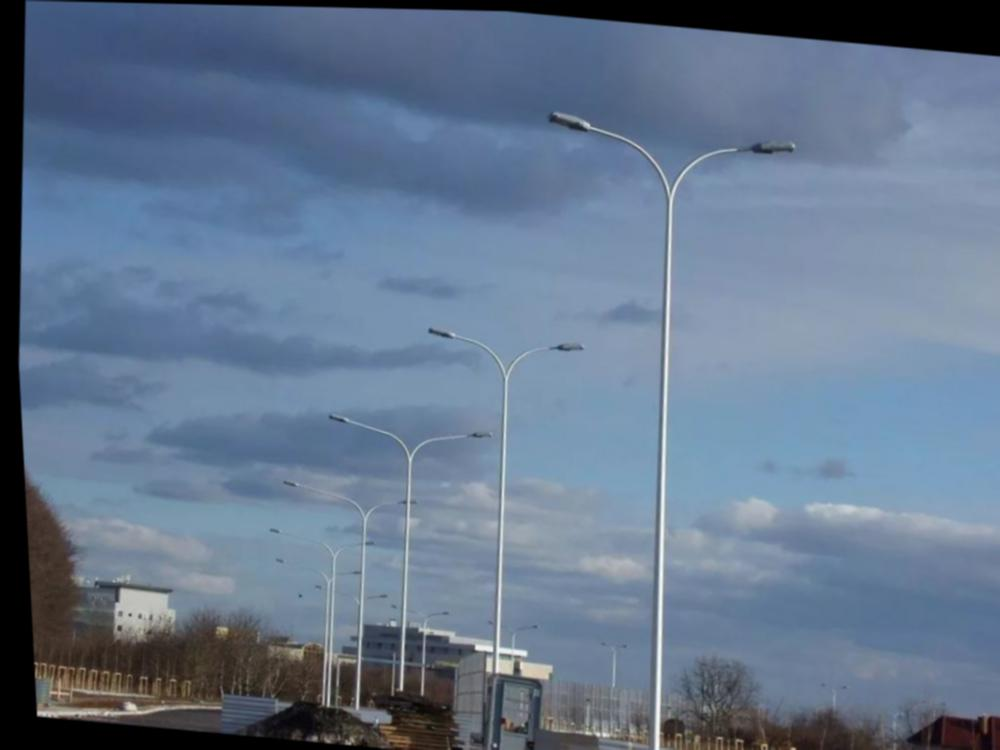Animal: (496, 85, 833, 750), (385, 296, 606, 750), (287, 374, 509, 750), (248, 454, 429, 742), (238, 497, 374, 742)
